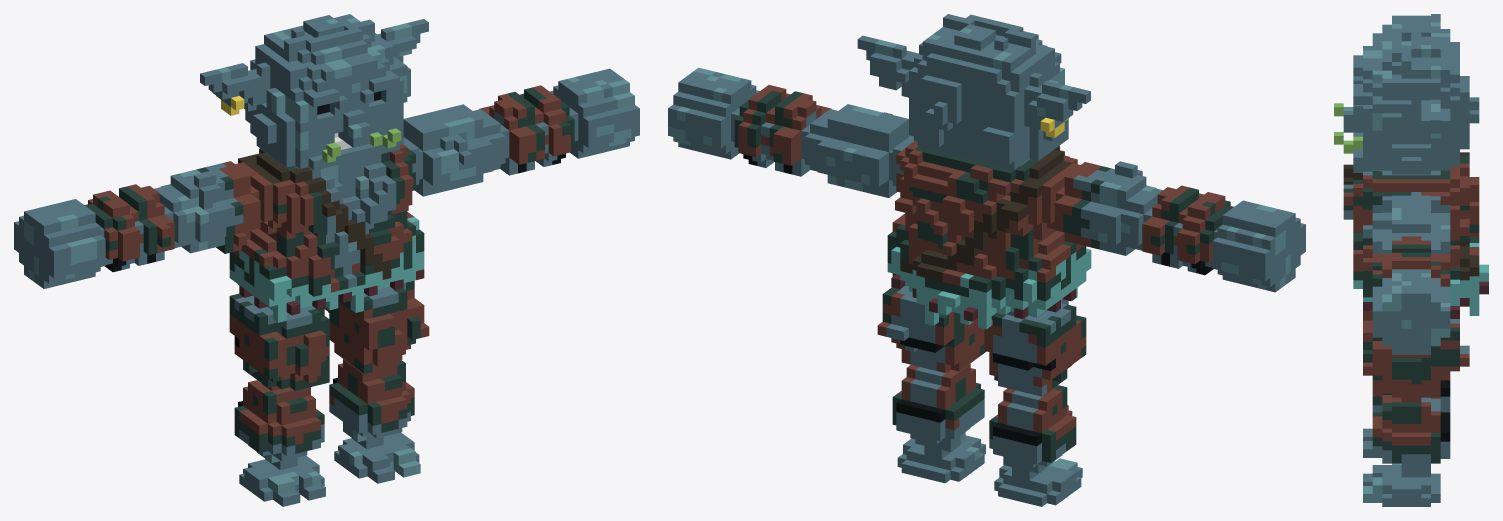
Rendered from monster_troll_blue.glb.
The picture shows the model from 3 angles, left to right: view 1: azimuth 30°, elevation 25°; view 2: azimuth 150°, elevation 25°; view 3: azimuth 270°, elevation 25°; orthographic projection. The views are drawn at different scales.
Visible parts, largest first — view 1: monster_troll_blue; view 2: monster_troll_blue; view 3: monster_troll_blue.
Boxes of the visible parts, box(x1,y1,x2,y2) form: monster_troll_blue: box(14, 14, 639, 506); monster_troll_blue: box(668, 14, 1305, 506); monster_troll_blue: box(1334, 14, 1488, 506).
Size of the model in its own units: 6.8 by 4.9 by 1.6.
1 material, 1 textured.
